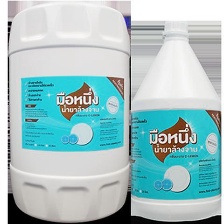cleaning_solution: (8, 1, 132, 224), (128, 18, 222, 222)
